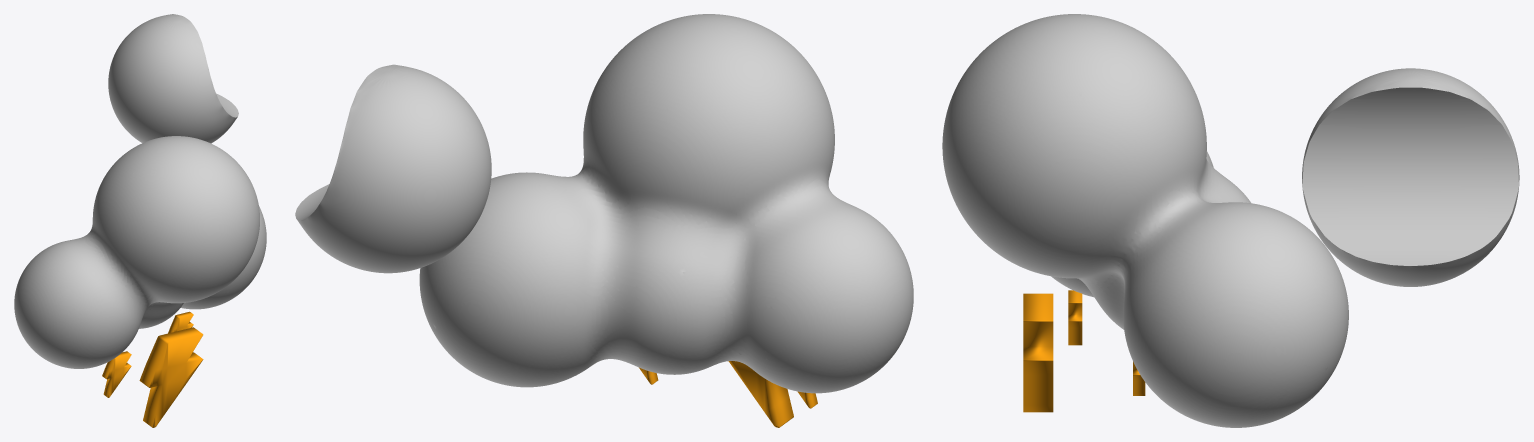
File: night8.obj
3 views of the same model, side by side, from view 1: azimuth 30°, elevation 25°; view 2: azimuth 150°, elevation 25°; view 3: azimuth 270°, elevation 25° (orthographic). The views are drawn at different scales.
Parts seen in each view (by area): view 1: Mball.023_Mesh.023, Sphere.116_Sphere.042, Plane.011_Plane.008, Plane.019_Plane.010, Plane.018_Plane.009; view 2: Mball.023_Mesh.023, Sphere.116_Sphere.042, Plane.011_Plane.008; view 3: Mball.023_Mesh.023, Sphere.116_Sphere.042, Plane.011_Plane.008, Plane.019_Plane.010.
Boxes of the visible parts, <box> form: Mball.023_Mesh.023: <box>14,136,266,368</box>; Sphere.116_Sphere.042: <box>108,14,238,143</box>; Plane.011_Plane.008: <box>139,327,203,427</box>; Plane.019_Plane.010: <box>102,351,131,397</box>; Plane.018_Plane.009: <box>168,311,193,333</box>; Mball.023_Mesh.023: <box>419,14,913,393</box>; Sphere.116_Sphere.042: <box>295,64,491,273</box>; Plane.011_Plane.008: <box>728,361,793,427</box>; Mball.023_Mesh.023: <box>942,14,1348,427</box>; Sphere.116_Sphere.042: <box>1302,68,1519,286</box>; Plane.011_Plane.008: <box>1023,293,1053,412</box>; Plane.019_Plane.010: <box>1068,290,1082,345</box>.
Bounding box in the file's own units: 4.97 × 4.46 × 5.24.
